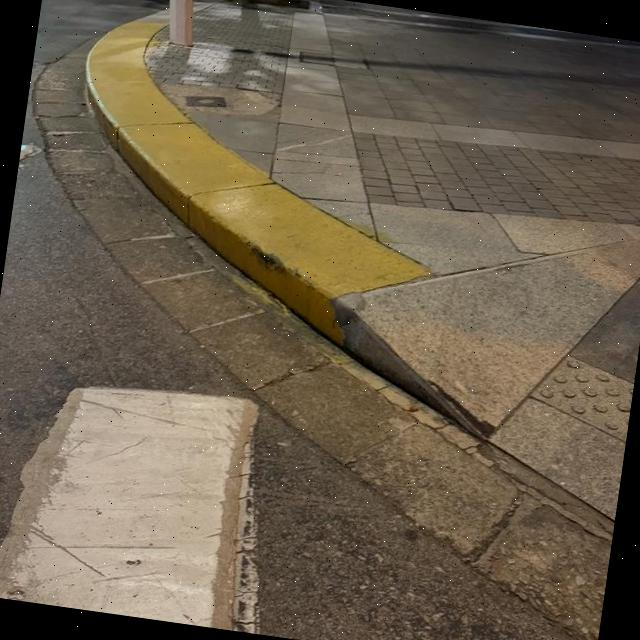curb: (86, 21, 428, 343), (140, 9, 170, 25), (193, 0, 220, 11)
